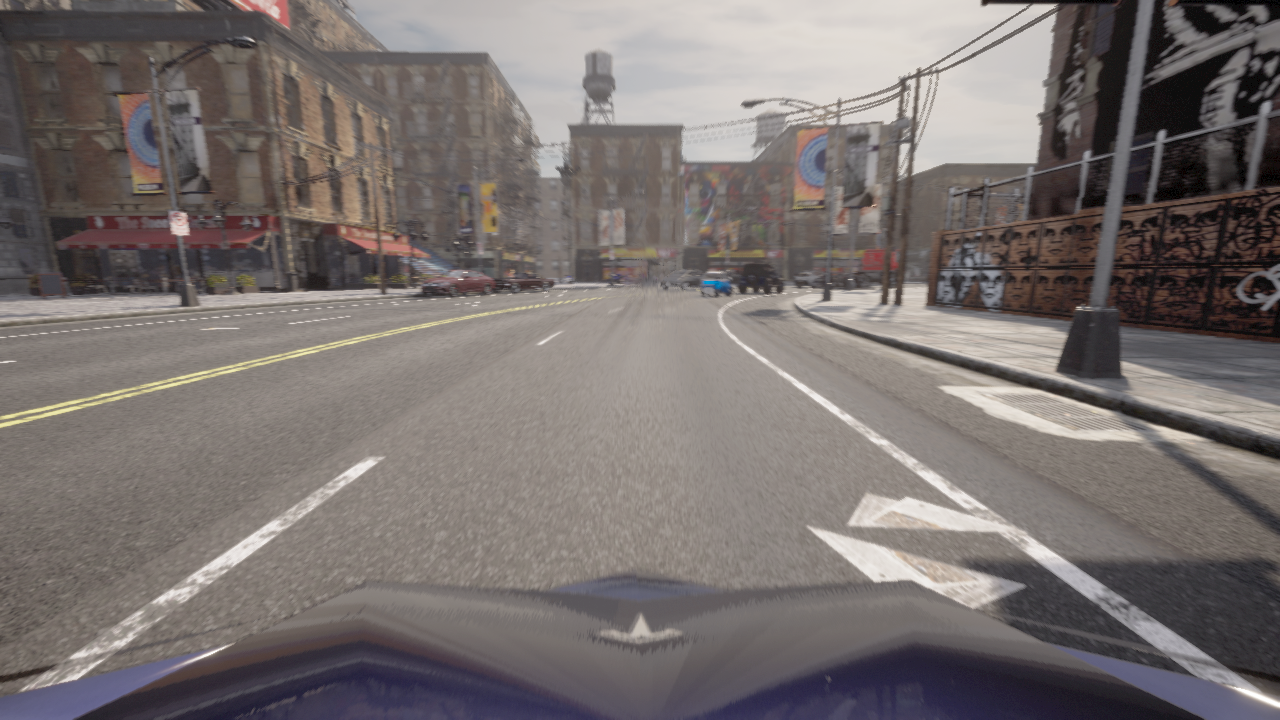cyclist: (0, 569, 1279, 719), (816, 247, 898, 288), (420, 269, 494, 296), (738, 263, 783, 293), (492, 272, 554, 292), (660, 269, 704, 290), (700, 271, 731, 296), (795, 270, 825, 287), (718, 270, 741, 287), (608, 271, 630, 284), (635, 273, 657, 284), (629, 273, 644, 284), (564, 276, 574, 282)
